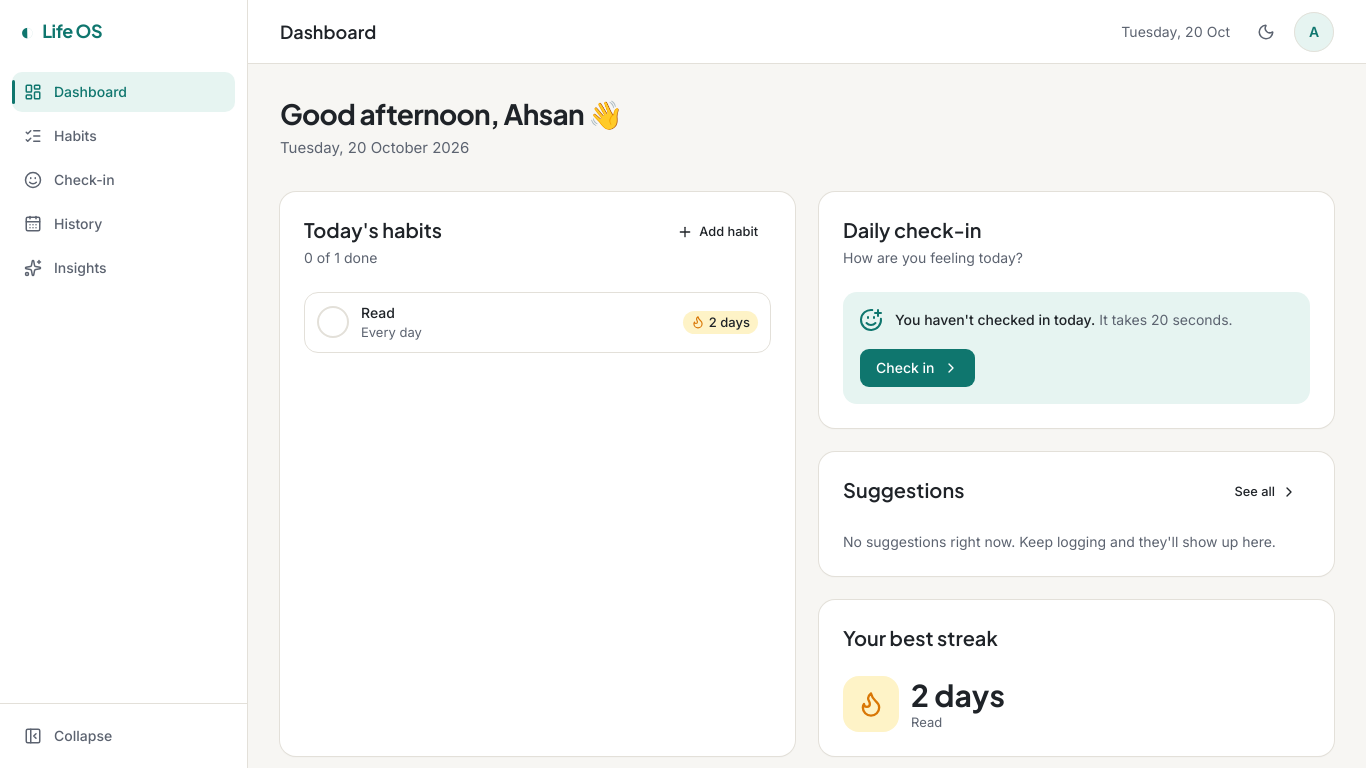
it: DashboardPage – today's habits › marks a habit done for the server's today and shows the new streak
Click the checkbox named "Read" at (333, 322), box x1=317 y1=306 x2=349 y2=338
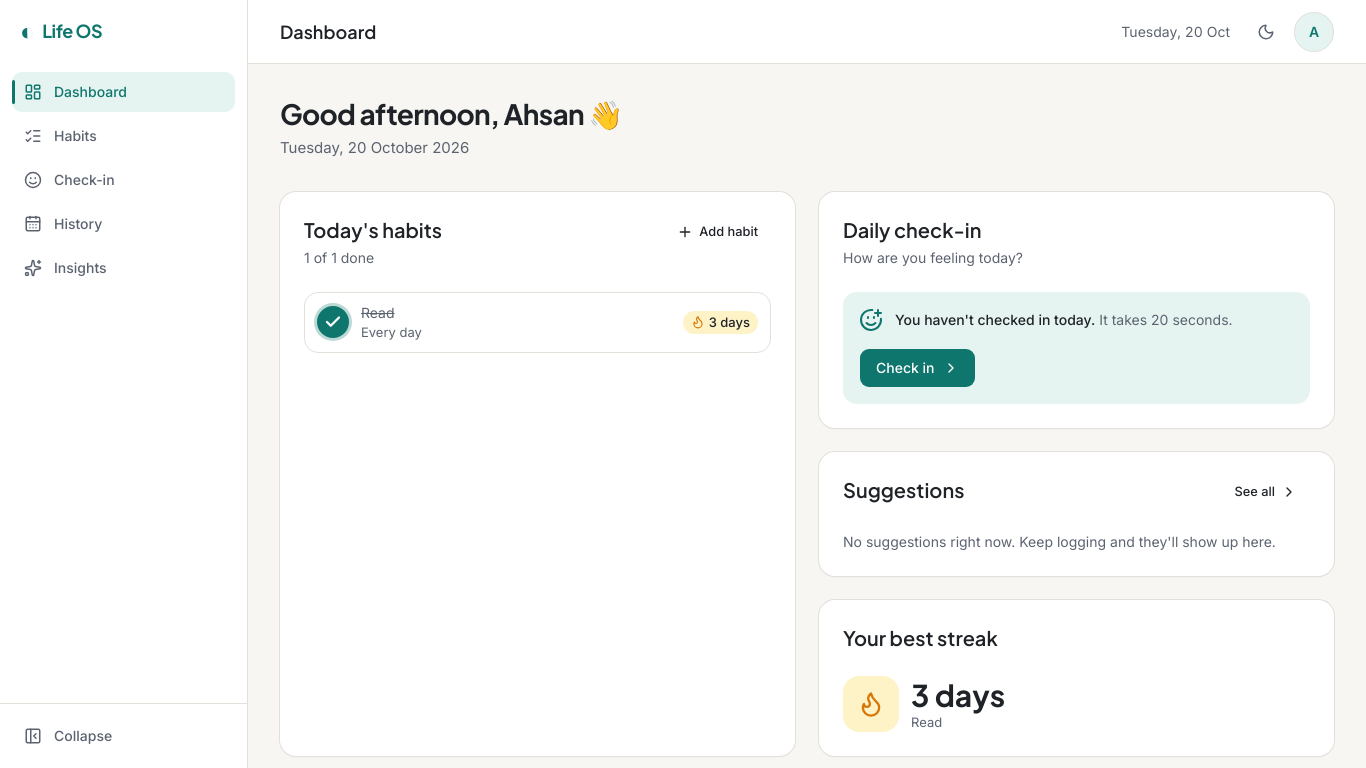
Expected: the checkbox named "Read" is checked, x1=317 y1=306 x2=349 y2=338
Expected: the text "3 days" is shown, x1=683 y1=311 x2=758 y2=334
Expected: the text "1 of 1 done" is shown, x1=304 y1=249 x2=374 y2=266
